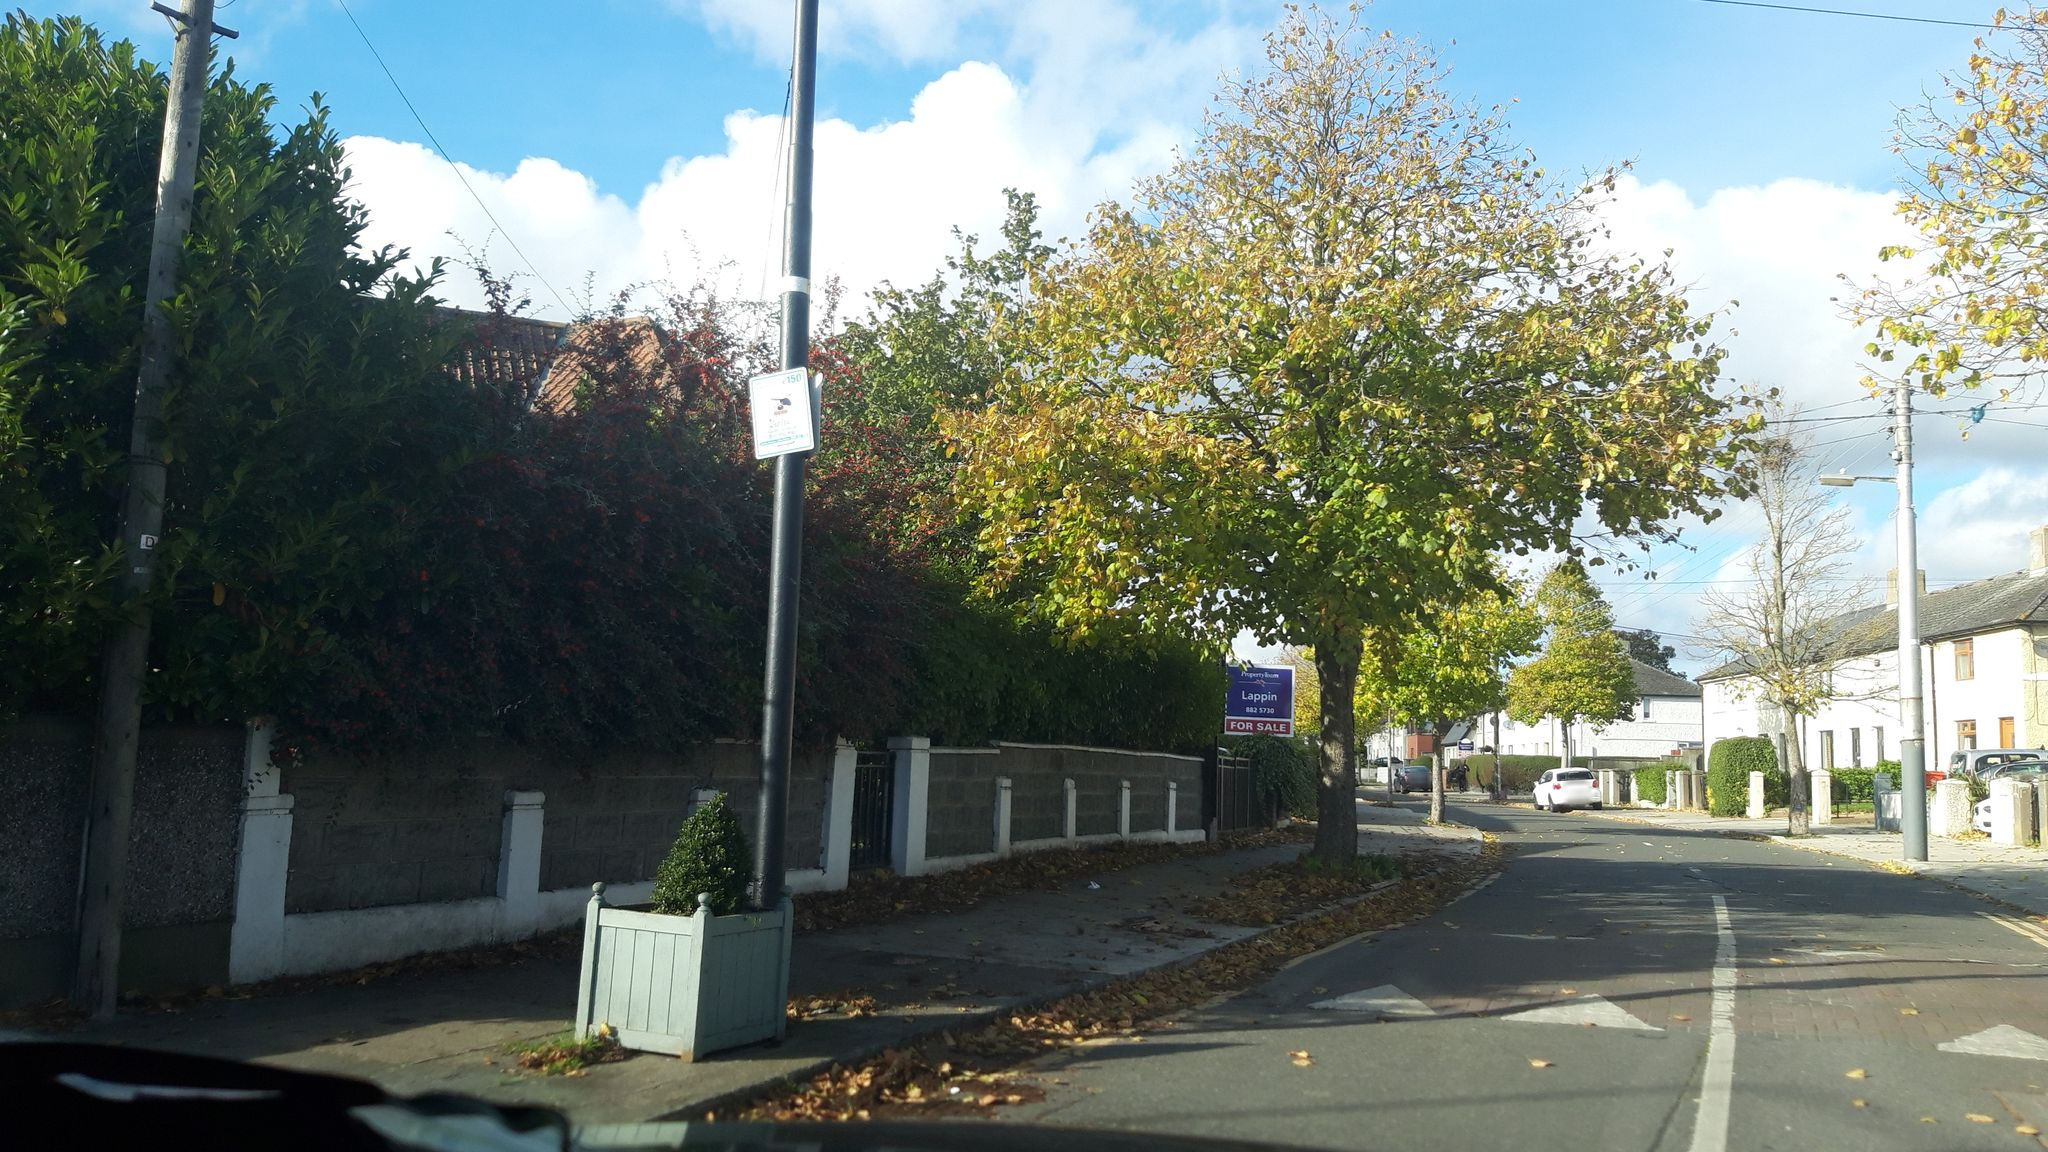property sign: (1201, 640, 1310, 755)
